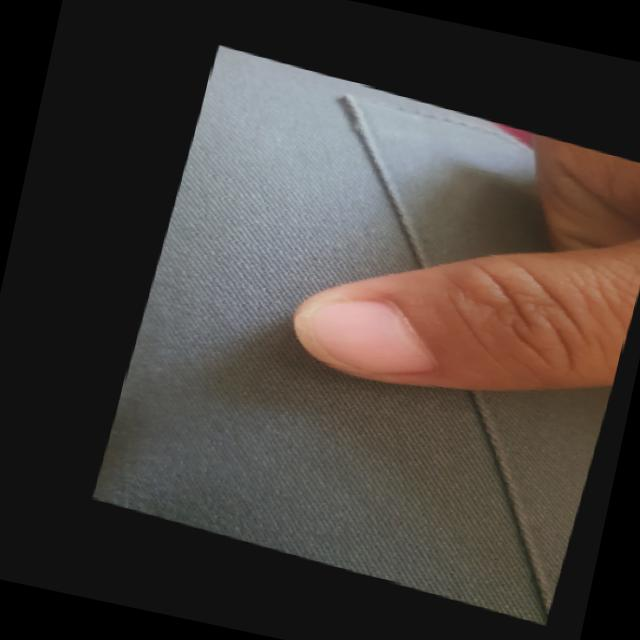Nail: (293, 297, 428, 374)
